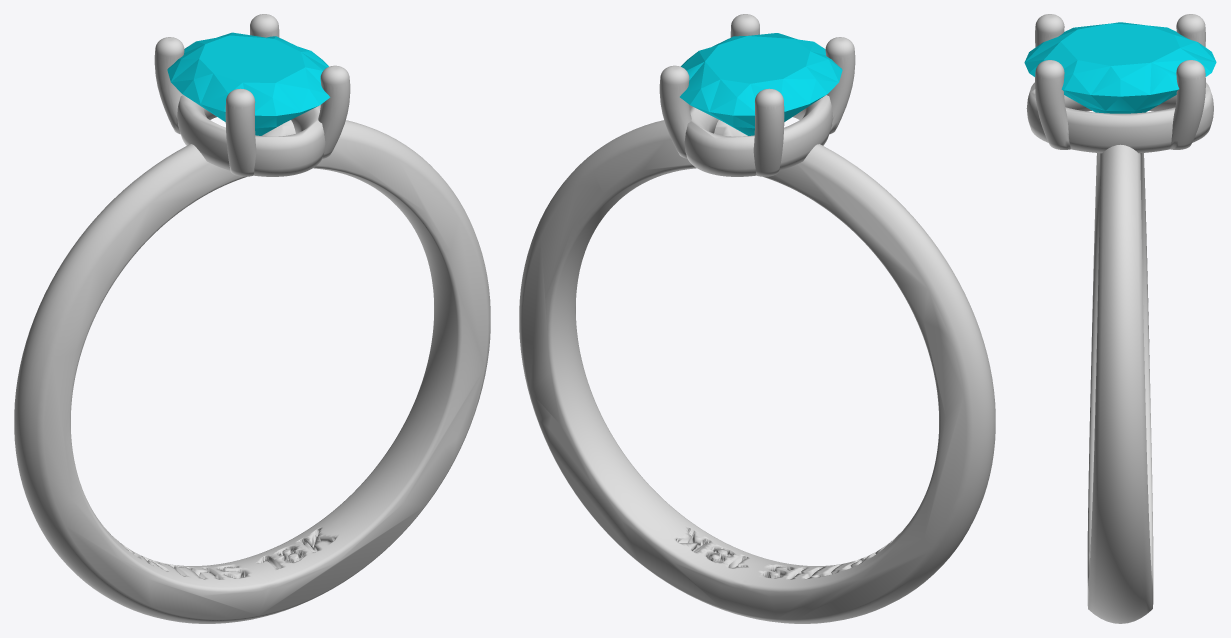
File: Ring - Simple Oval Center.glb
3 renders of one model, left to right at view 1: azimuth 30°, elevation 25°; view 2: azimuth 150°, elevation 25°; view 3: azimuth 270°, elevation 25°, orthographic.
Parts seen in each view (by area): view 1: RingSimpleOvalCenter, MarkerGem; view 2: RingSimpleOvalCenter, MarkerGem; view 3: RingSimpleOvalCenter, MarkerGem.
Part boxes in pixels (x1=…): RingSimpleOvalCenter: x1=14, y1=14, x2=490, y2=623; MarkerGem: x1=167, y1=32, x2=330, y2=135; RingSimpleOvalCenter: x1=519, y1=14, x2=995, y2=623; MarkerGem: x1=680, y1=33, x2=842, y2=135; RingSimpleOvalCenter: x1=1026, y1=14, x2=1213, y2=623; MarkerGem: x1=1024, y1=22, x2=1216, y2=113.
Size of the model in its own units: 1.01 by 1.15 by 0.3589.
